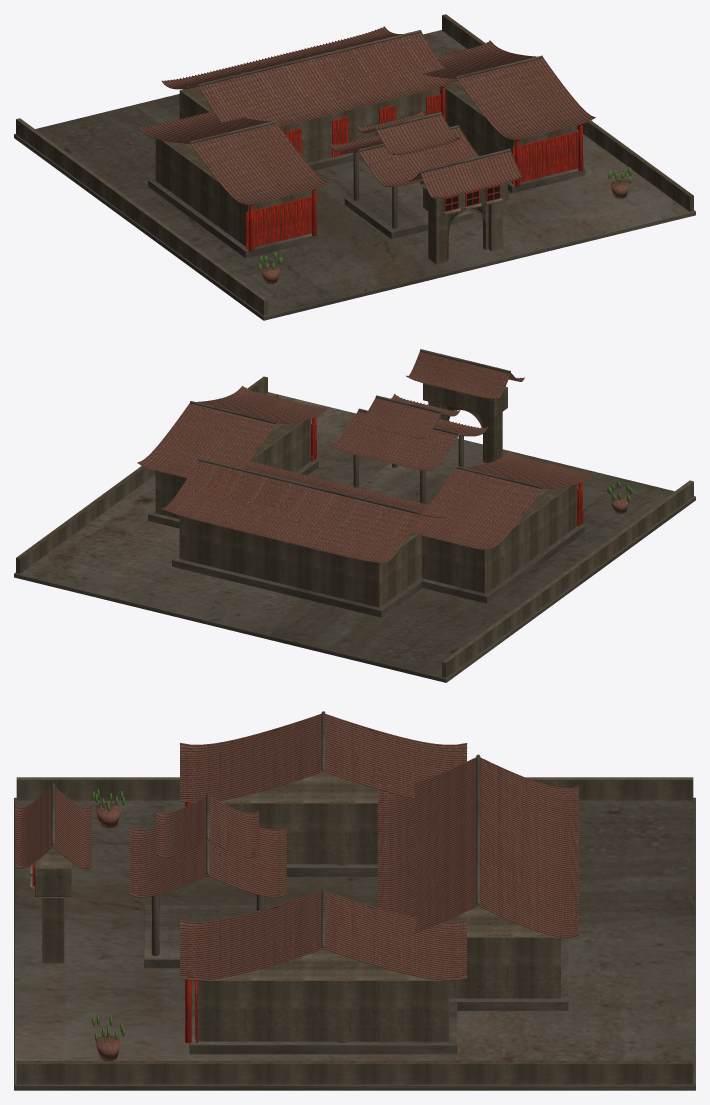
File: den_ngoc_son.glb
3 views of the same model, one above another, from view 1: azimuth 30°, elevation 25°; view 2: azimuth 150°, elevation 25°; view 3: azimuth 270°, elevation 25° (orthographic). The views are drawn at different scales.
Parts seen in each view (by area): view 1: den_ngoc_son.001; view 2: den_ngoc_son.001; view 3: den_ngoc_son.001.
Boxes of the visible parts, box(x1,y1,x2,y2) form: den_ngoc_son.001: box(14, 14, 695, 320); den_ngoc_son.001: box(14, 349, 695, 682); den_ngoc_son.001: box(14, 711, 695, 1090).
Bounding box in the file's own units: 26 × 5.64 × 26.
Materials: 2 (2 with a texture image).
